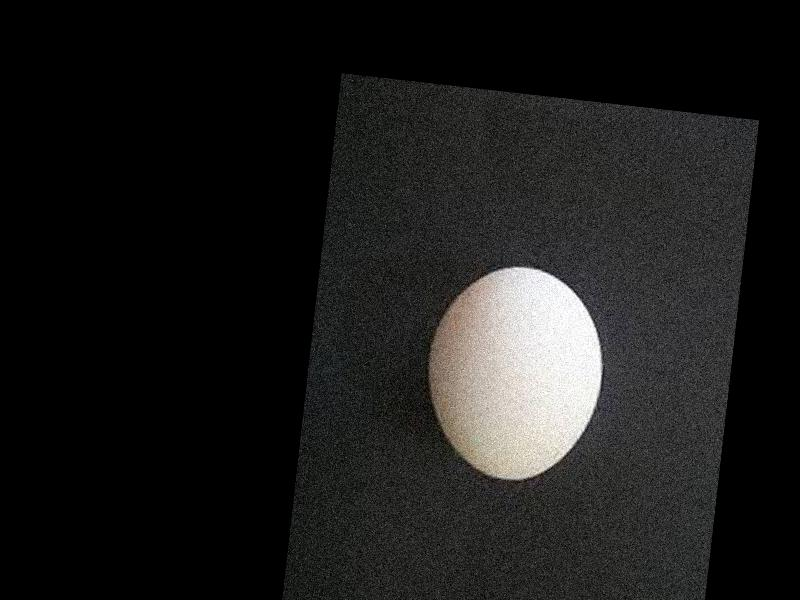Eggs: (418, 263, 611, 490)
